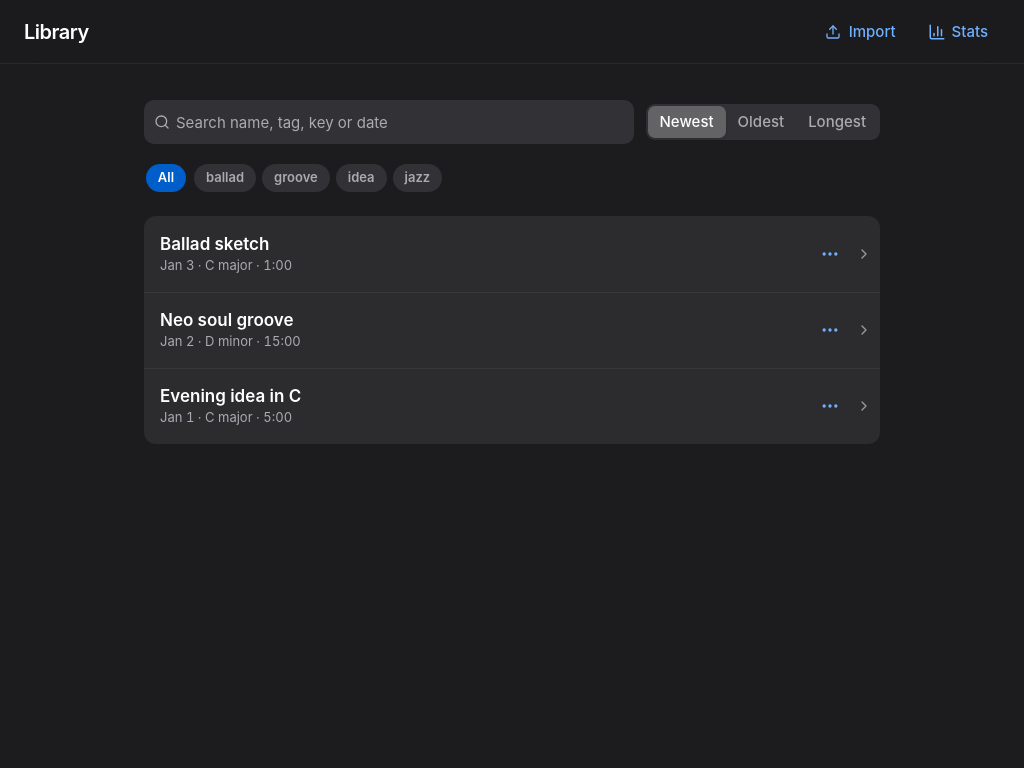
Test: LibraryScreen › renames a session inline
This screenshot has width=1024, height=768.
Click the button named "More actions for Ballad sketch" at (830, 254), box [808,232,852,276]
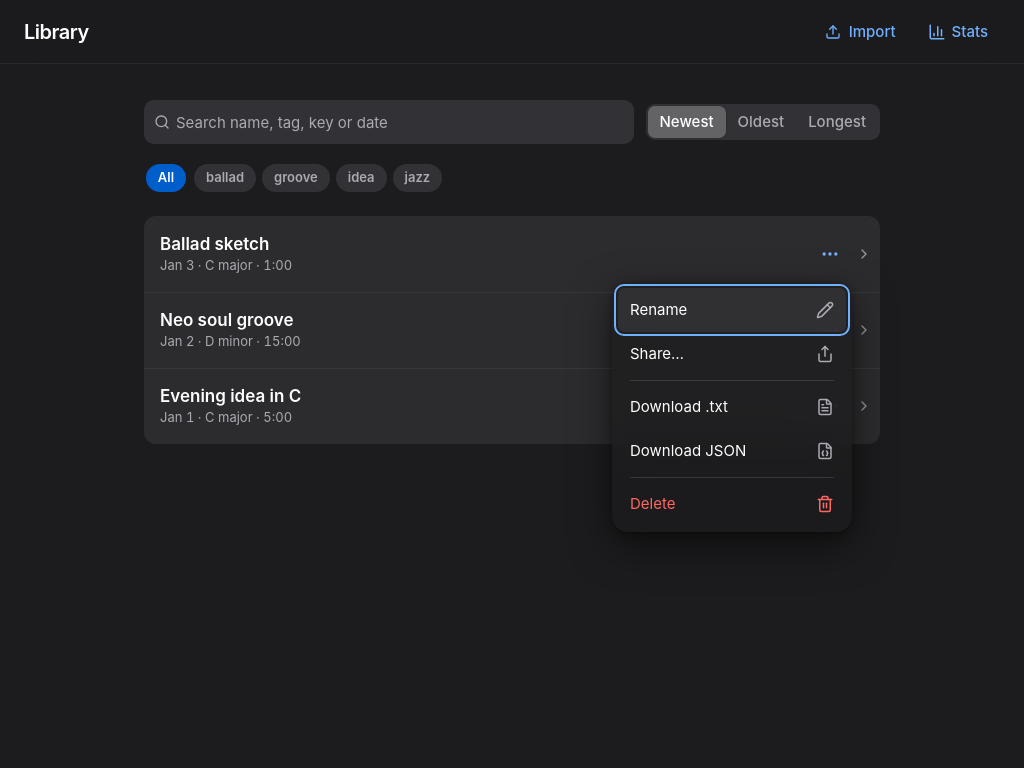
Click the menu item "Rename" at (732, 310), box [618,288,846,332]
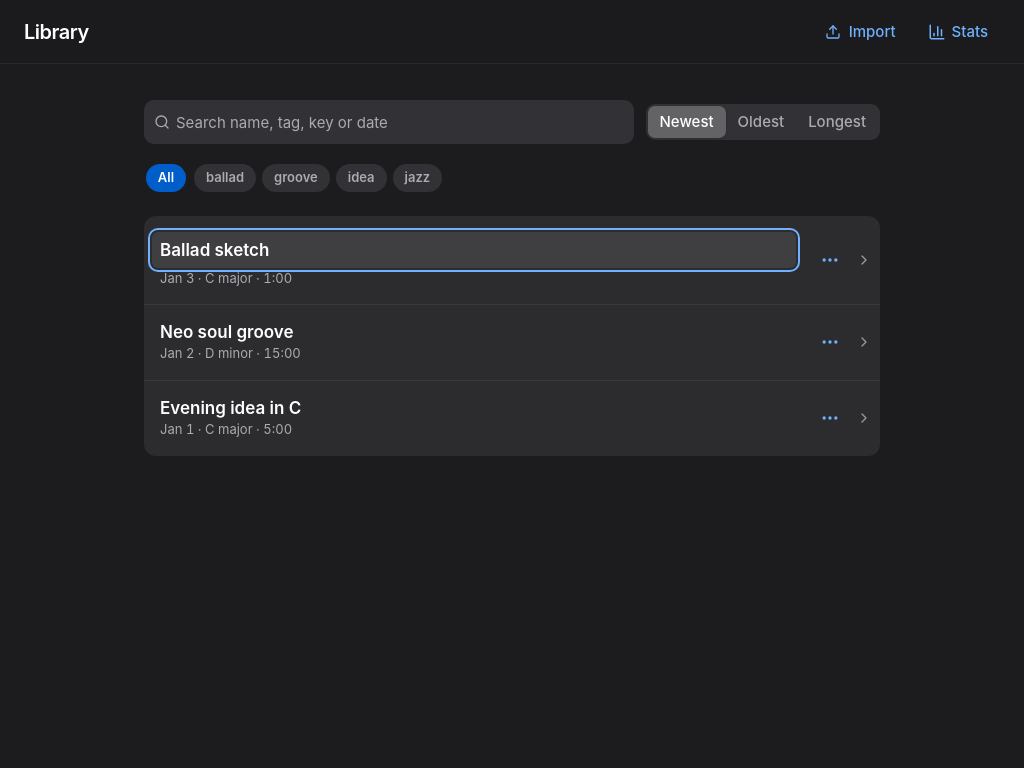
Replace the text in the field named "Session name" with "Ballad in E" at (474, 250), box [152,232,796,268]
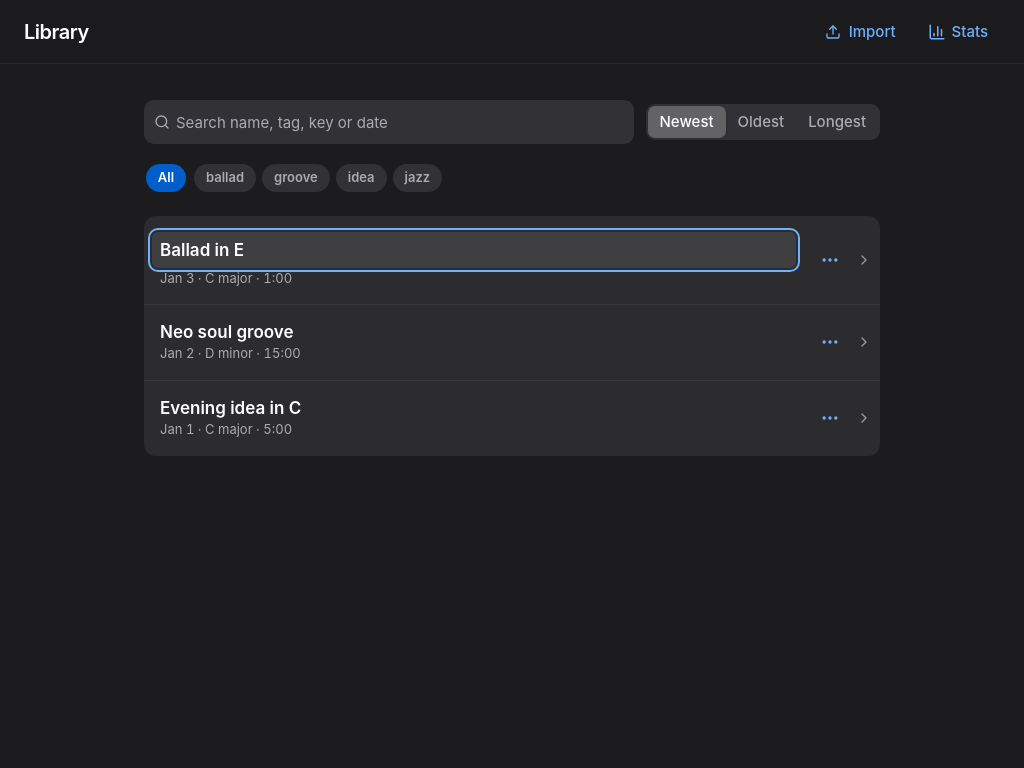
Press Enter in the field named "Session name", box [152,232,796,268]
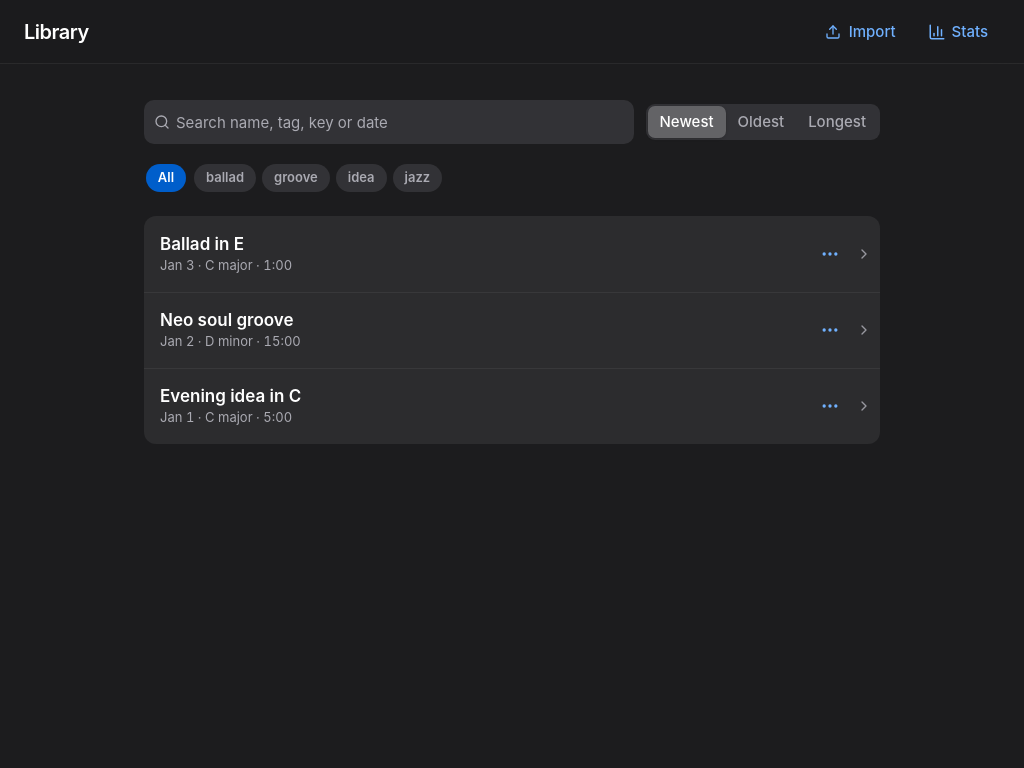
Expected: the link "Ballad in E" is shown, [160,234,244,254]
